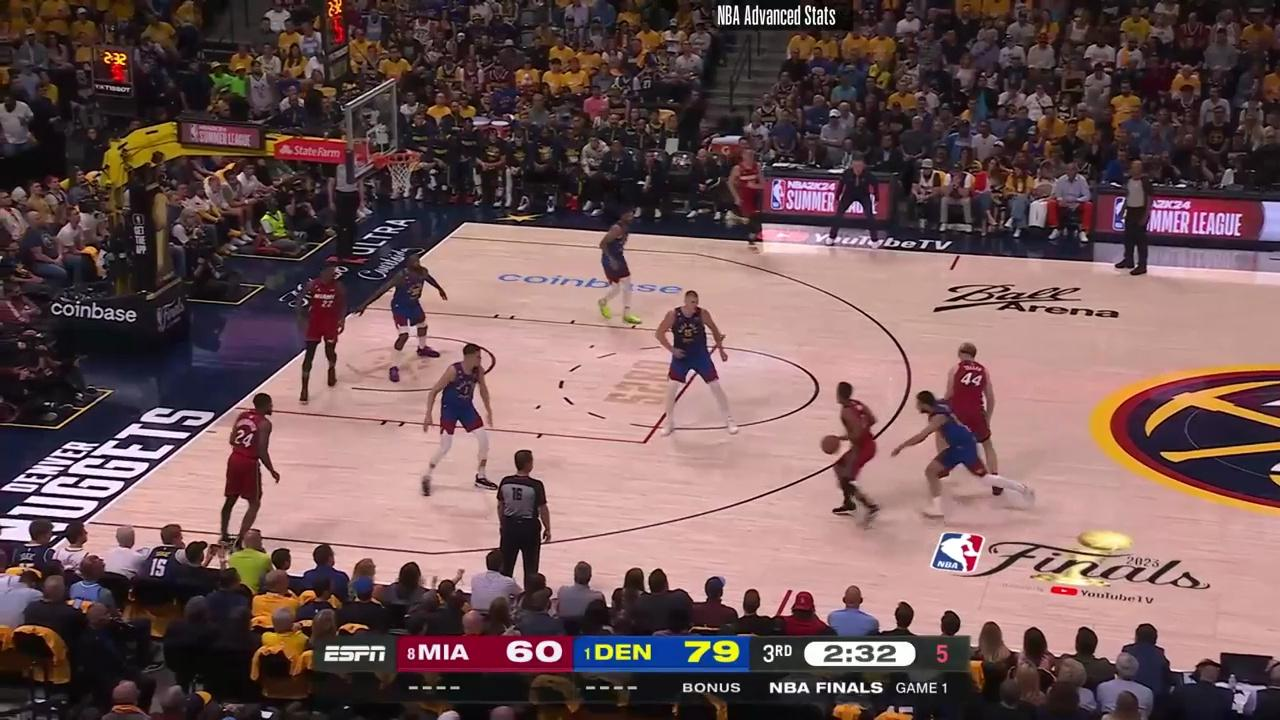Backboard: (349, 82, 397, 182)
Ball: (819, 434, 843, 457)
Basket: (384, 150, 421, 196)
Person: (907, 387, 1026, 520), (652, 286, 741, 439), (421, 340, 499, 497), (220, 390, 285, 553), (284, 261, 356, 401), (823, 376, 886, 533), (942, 340, 1002, 466), (386, 255, 447, 371), (594, 210, 647, 325), (723, 149, 770, 252)
Referee: (487, 451, 560, 585), (1116, 157, 1160, 275), (327, 163, 365, 257)
Shot Clock: (89, 49, 133, 112), (317, 1, 349, 81)
person: (825, 158, 876, 247)
